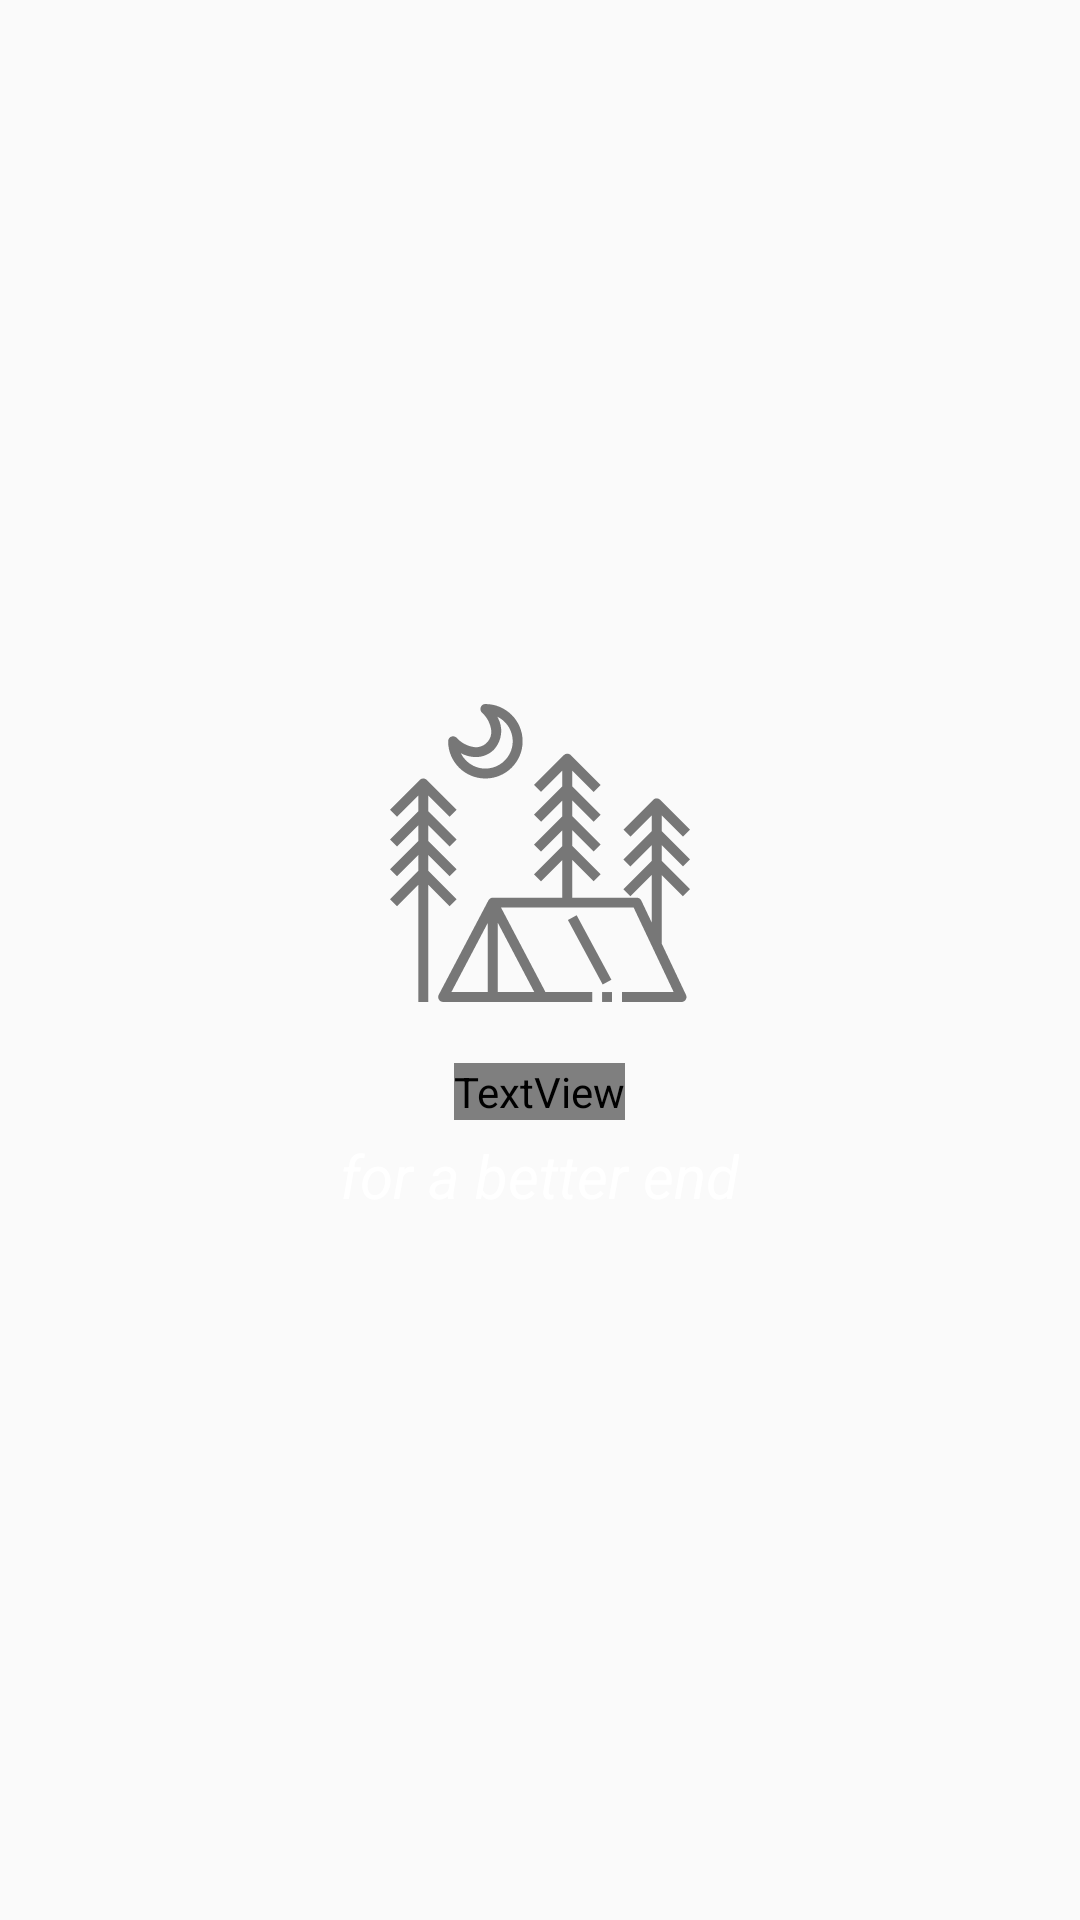

Icon bounding boxes for this 1080 × 1920 phone screenshot, format (x1,y1,x2,y2):
tent: (390,704,690,1002)
